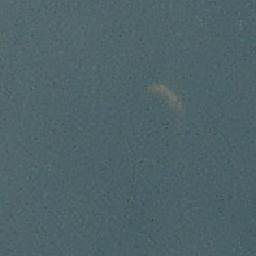debris: (148, 84, 172, 94), (170, 95, 181, 110)
